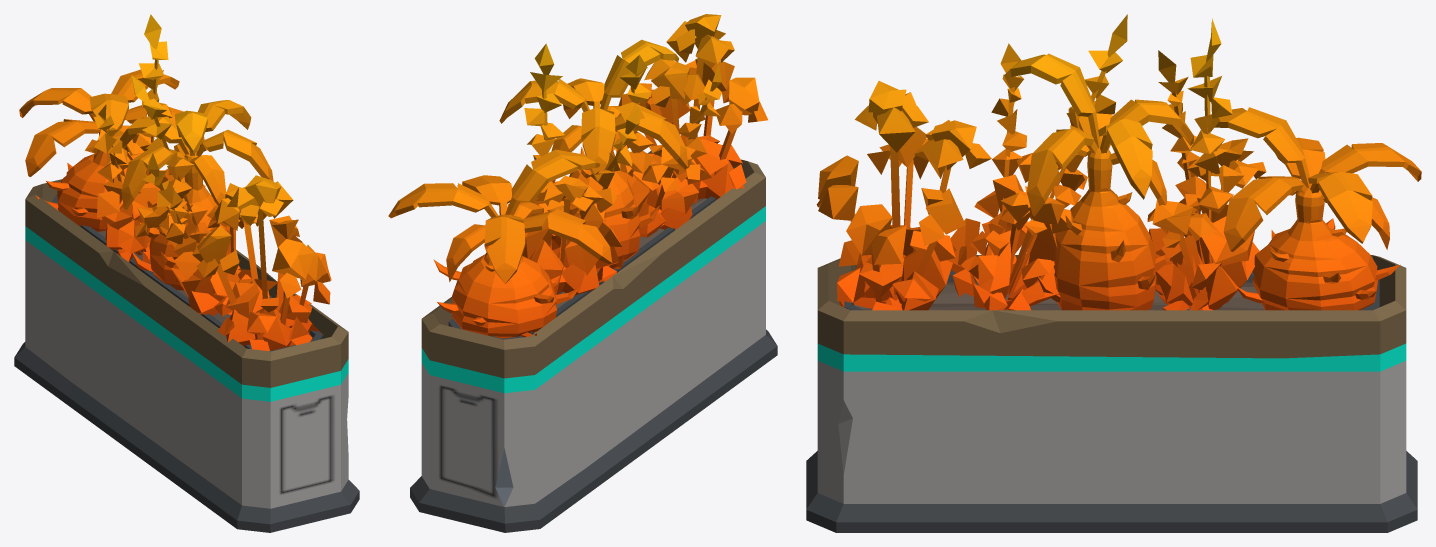
The model's file is SM_Prop_Holo_Planter_03.fbx.
3 views of the same model, side by side, from view 1: azimuth 30°, elevation 25°; view 2: azimuth 150°, elevation 25°; view 3: azimuth 270°, elevation 25° (orthographic). The views are drawn at different scales.
Visible parts, largest first — view 1: SM_Prop_Holo_Planter_03, SM_Prop_Holo_Planter_03_Foliage; view 2: SM_Prop_Holo_Planter_03, SM_Prop_Holo_Planter_03_Foliage; view 3: SM_Prop_Holo_Planter_03, SM_Prop_Holo_Planter_03_Foliage.
Boxes of the visible parts, bbox=[...] form: SM_Prop_Holo_Planter_03: bbox=[14, 179, 359, 532]; SM_Prop_Holo_Planter_03_Foliage: bbox=[19, 14, 331, 350]; SM_Prop_Holo_Planter_03: bbox=[410, 151, 777, 532]; SM_Prop_Holo_Planter_03_Foliage: bbox=[388, 14, 767, 338]; SM_Prop_Holo_Planter_03: bbox=[806, 255, 1417, 532]; SM_Prop_Holo_Planter_03_Foliage: bbox=[816, 14, 1421, 310].
Bounding box in the file's own units: 92.71 × 192 × 223.
